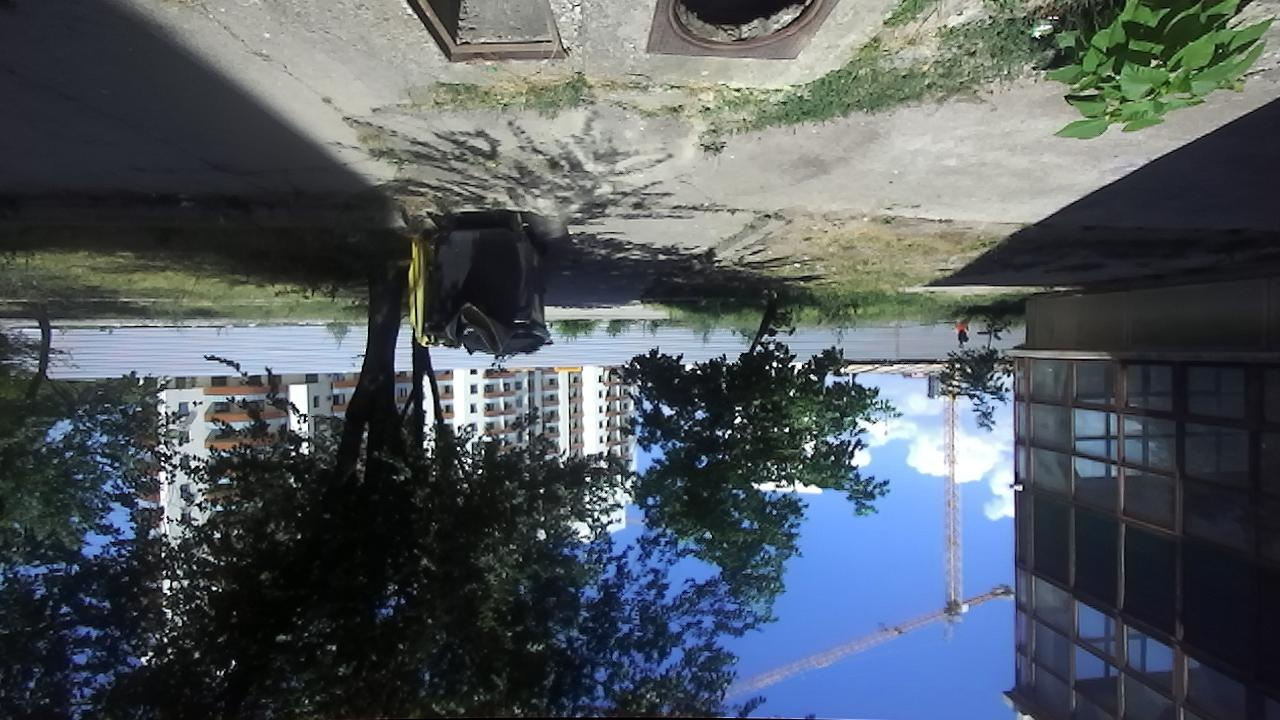drain: (402, 0, 569, 66), (664, 1, 831, 53)
